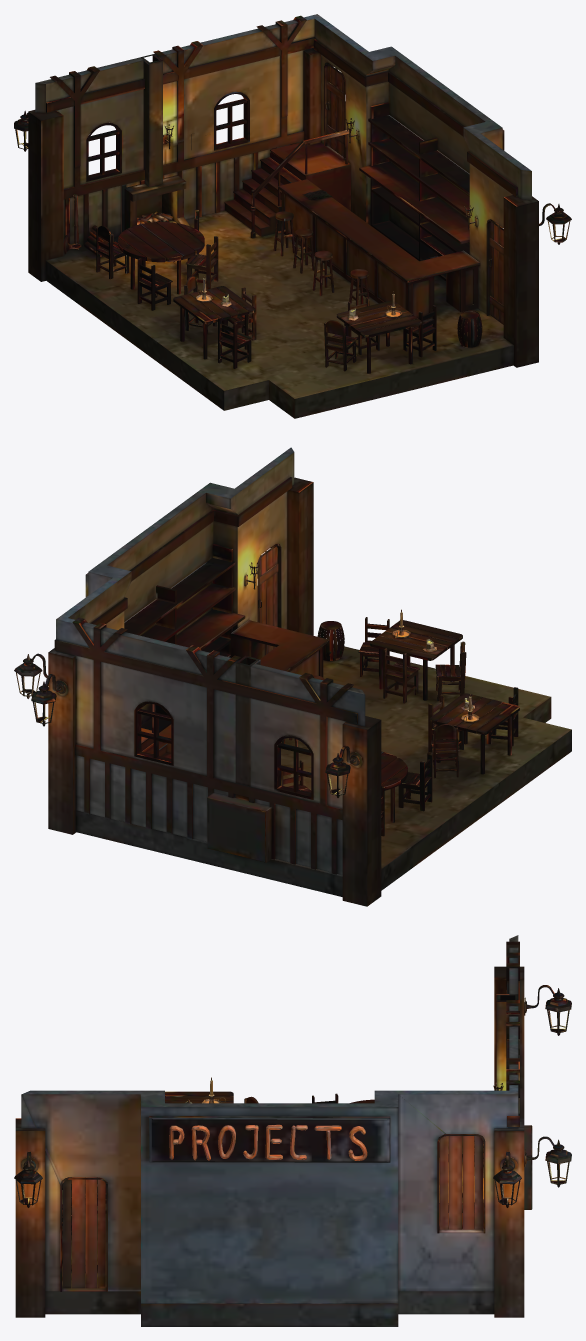
Rendered from tavern.glb.
3 views of the same model, one above another, from view 1: azimuth 30°, elevation 25°; view 2: azimuth 150°, elevation 25°; view 3: azimuth 270°, elevation 25° (orthographic). The views are drawn at different scales.
Visible parts, largest first — view 1: Piso_Surface - Matte_0.001; view 2: Piso_Surface - Matte_0.001; view 3: Piso_Surface - Matte_0.001.
Part boxes in pixels (x1=…): Piso_Surface - Matte_0.001: x1=14, y1=14, x2=571, y2=418; Piso_Surface - Matte_0.001: x1=14, y1=447, x2=571, y2=906; Piso_Surface - Matte_0.001: x1=14, y1=935, x2=571, y2=1326.
Bounding box in the file's own units: 6.92 × 3.89 × 8.85.
1 material, 1 textured.
